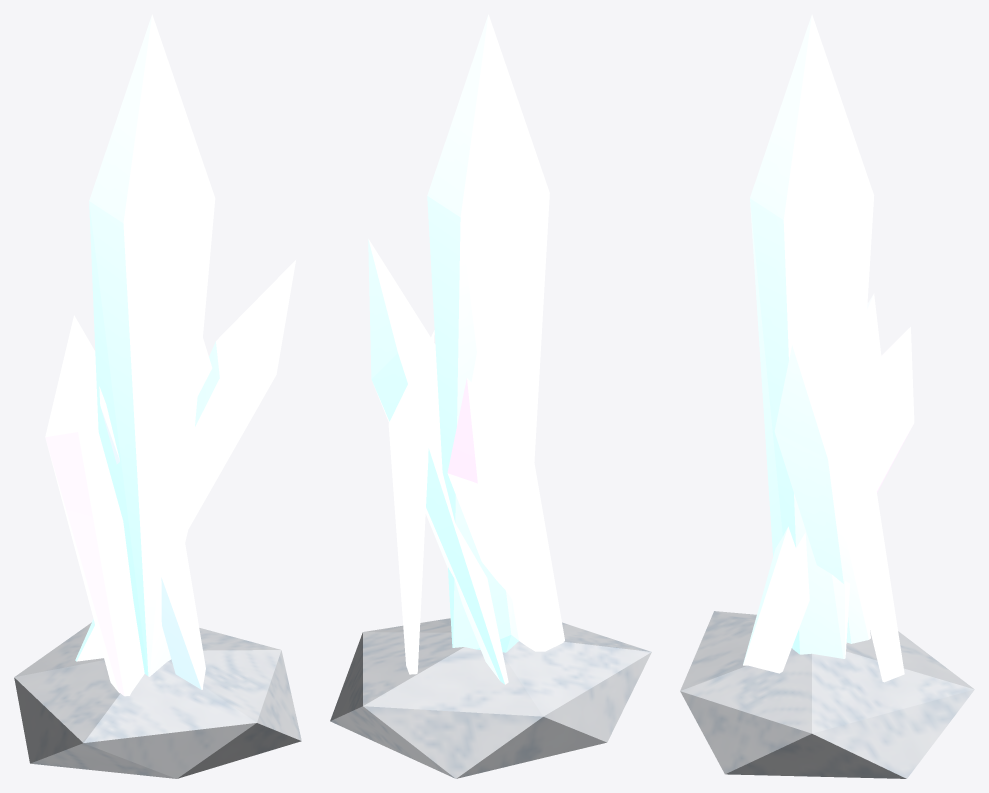
File: prism_crystal_lod1.gltf
3 renders of one model, left to right at view 1: azimuth 30°, elevation 25°; view 2: azimuth 150°, elevation 25°; view 3: azimuth 270°, elevation 25°, orthographic. The views are drawn at different scales.
Parts seen in each view (by area): view 1: prism_crystal_LOD1; view 2: prism_crystal_LOD1; view 3: prism_crystal_LOD1.
Part boxes in pixels (x1,y1,x2,y2): prism_crystal_LOD1: (14,14,301,778); prism_crystal_LOD1: (330,14,651,778); prism_crystal_LOD1: (680,14,974,778).
Bounding box in the file's own units: 0.5944 × 1.64 × 0.6014.
1 material, 1 textured.
